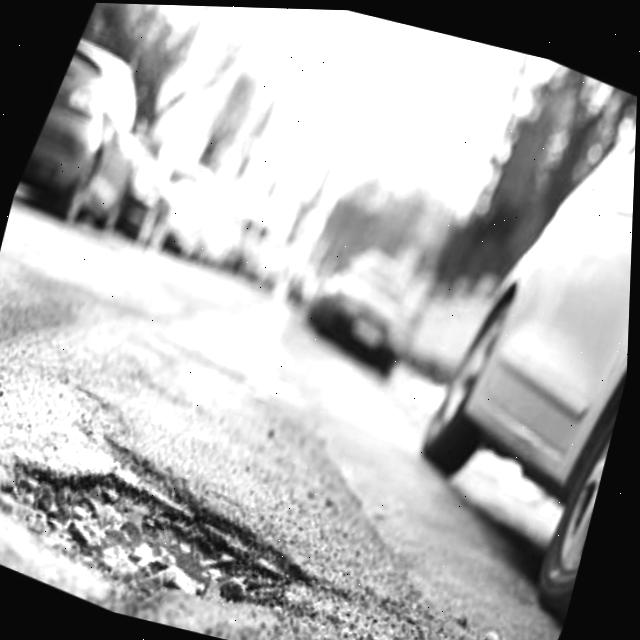Pothole: (0, 404, 335, 640)
